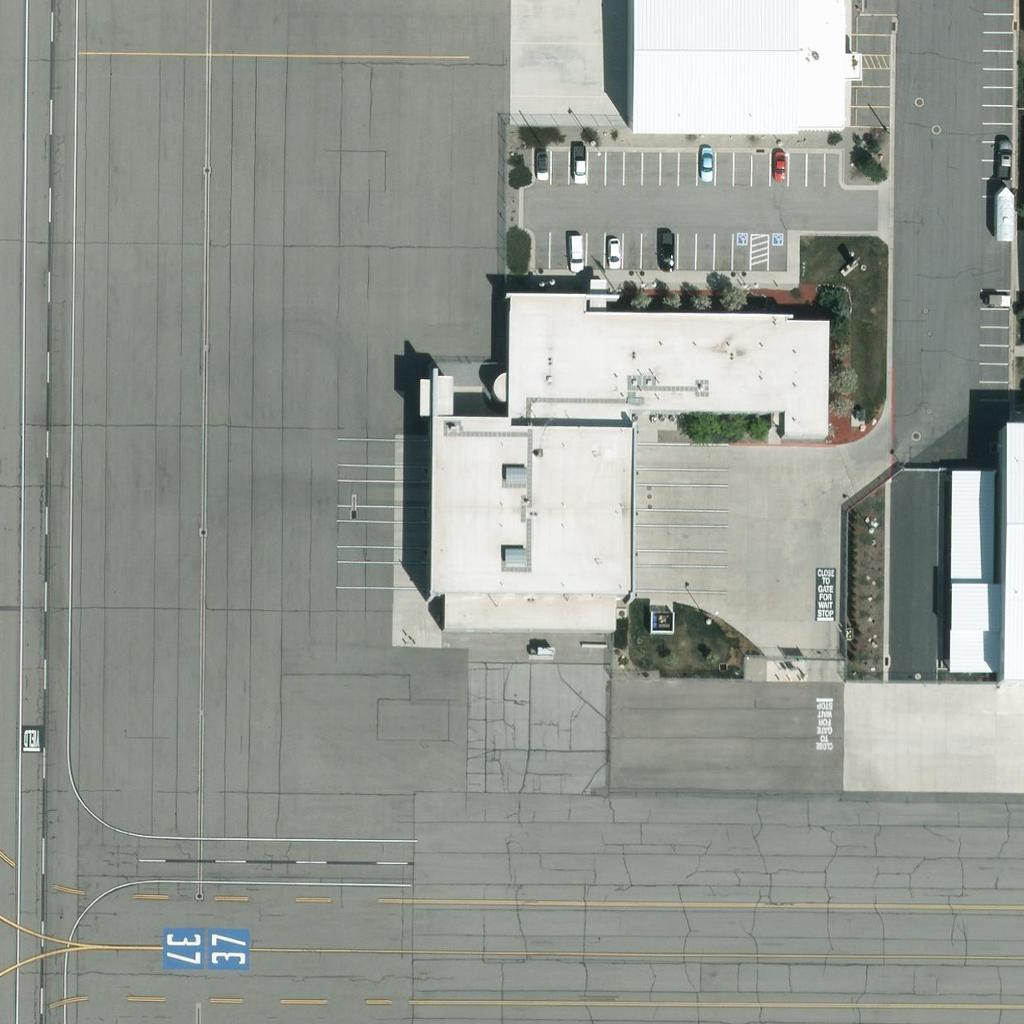car: (987, 140, 1021, 174), (689, 144, 723, 178), (761, 146, 795, 180), (524, 147, 558, 181), (562, 149, 596, 183), (596, 235, 630, 269), (559, 236, 593, 270), (650, 236, 684, 270), (983, 281, 1017, 315)
